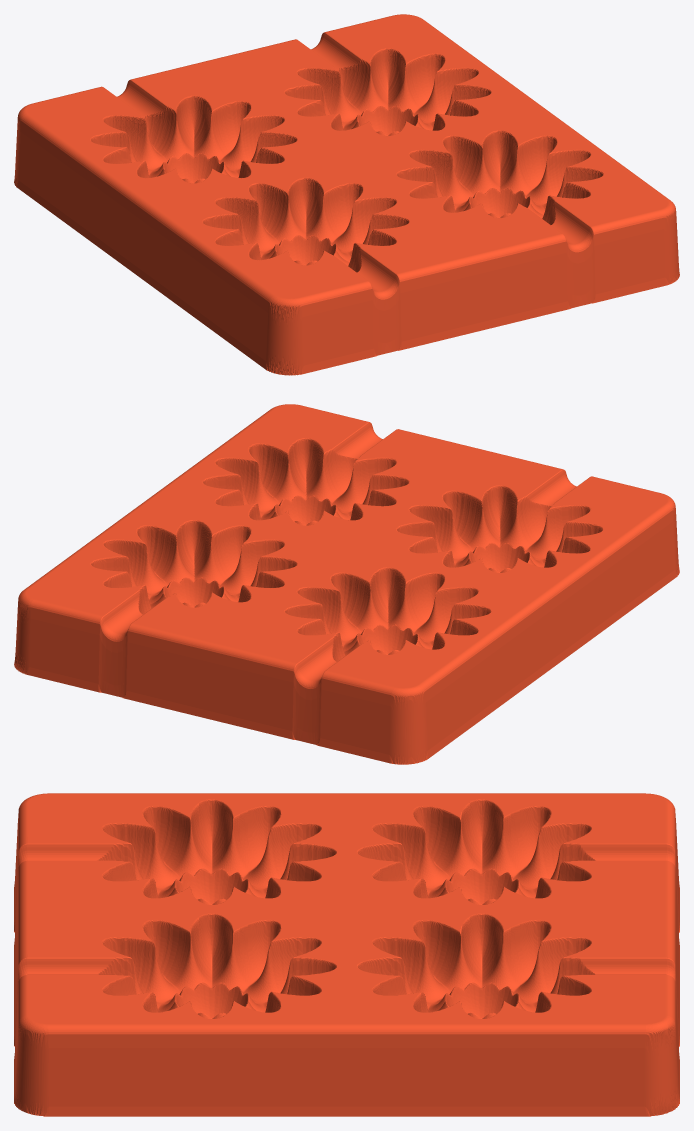
File: mold.glb
3 views of the same model, one above another, from view 1: azimuth 30°, elevation 25°; view 2: azimuth 150°, elevation 25°; view 3: azimuth 270°, elevation 25° (orthographic). The views are drawn at different scales.
Visible parts, largest first — view 1: geometry_0; view 2: geometry_0; view 3: geometry_0.
Boxes of the visible parts, x1=… form: geometry_0: x1=14, y1=14, x2=679, y2=375; geometry_0: x1=14, y1=404, x2=679, y2=764; geometry_0: x1=14, y1=793, x2=679, y2=1116.
Bounding box in the file's own units: 0.1468 × 0.0245 × 0.171.
